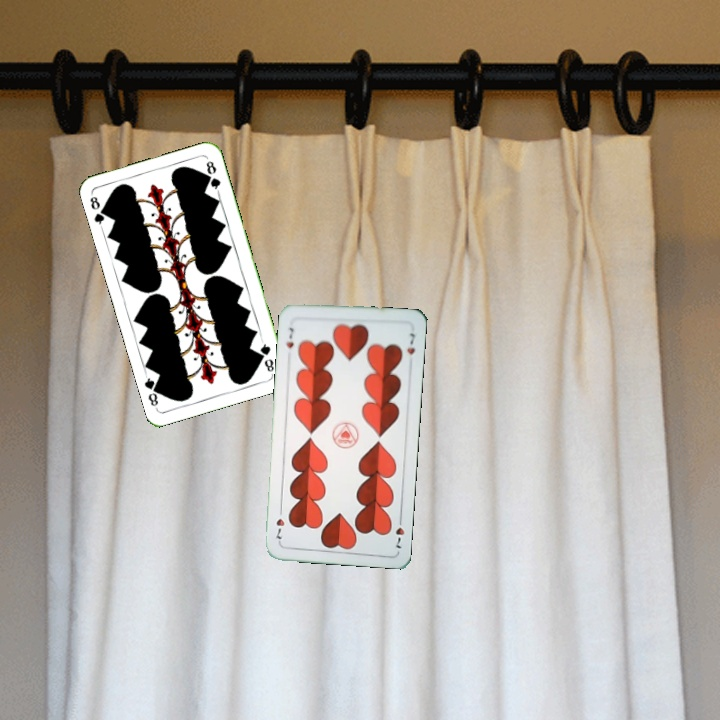G8: (86, 191, 110, 231), (256, 337, 277, 375)
H7: (391, 512, 407, 551), (282, 323, 297, 350)
